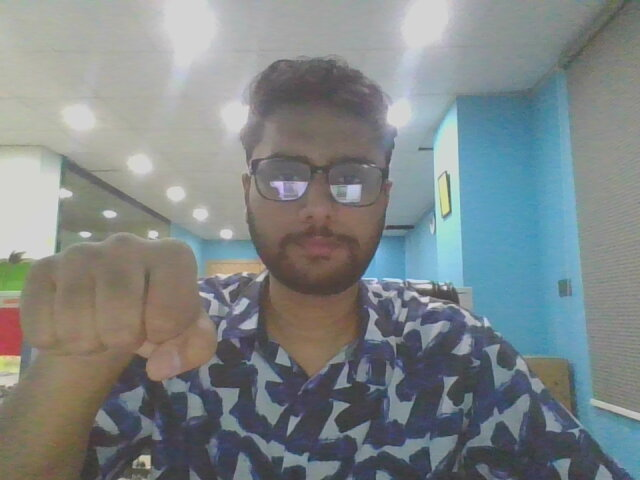yes: (12, 218, 245, 392)
